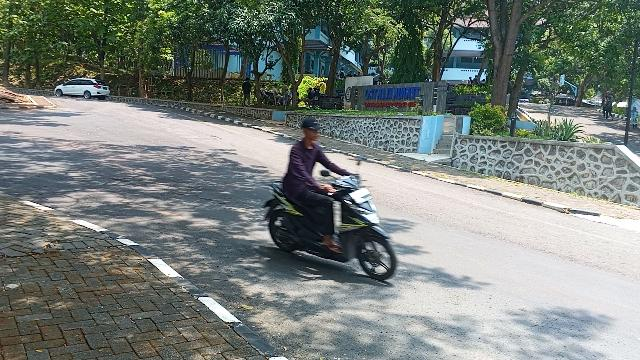motor: (262, 160, 399, 283)
non-helm: (300, 117, 324, 143)
